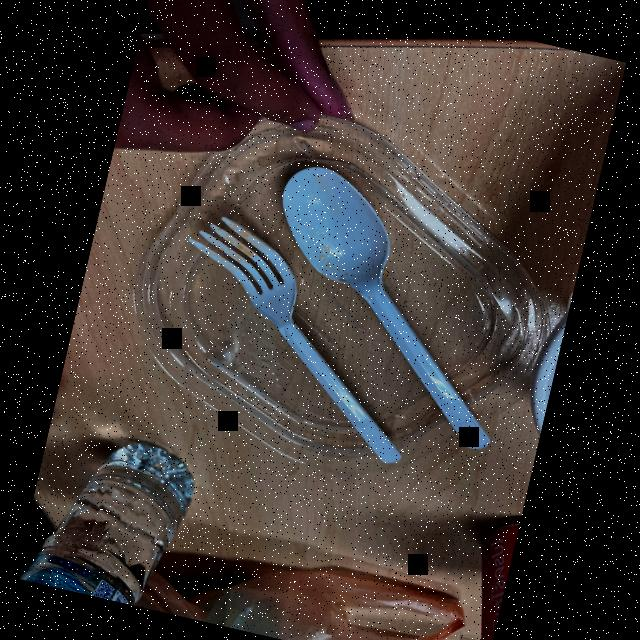plastic_spoon: (228, 162, 547, 462), (154, 214, 446, 480)
